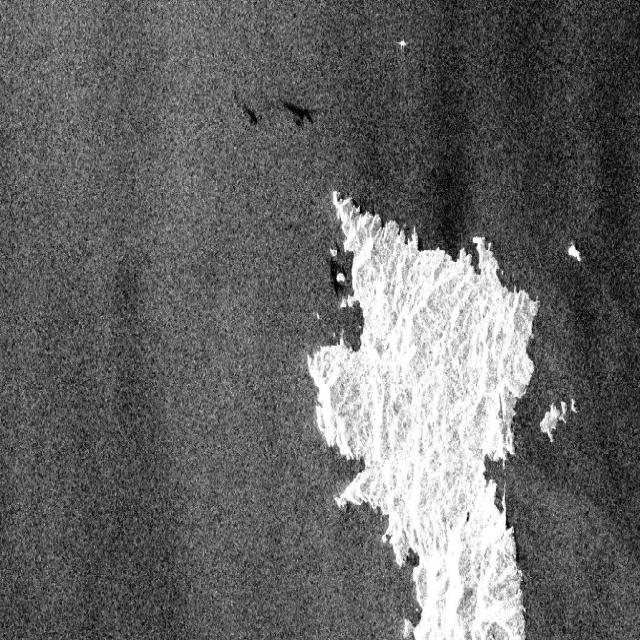look-alike: (323, 234, 351, 307)
oil-spill: (277, 85, 319, 137), (232, 87, 262, 141)
